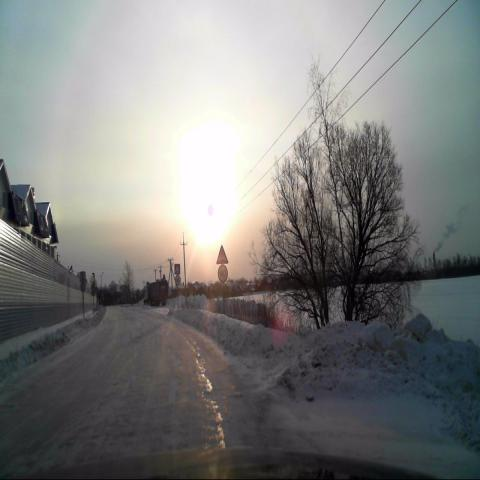1_17: (216, 245, 228, 265)
3_24: (218, 265, 228, 283)
5_20: (174, 263, 180, 275)
